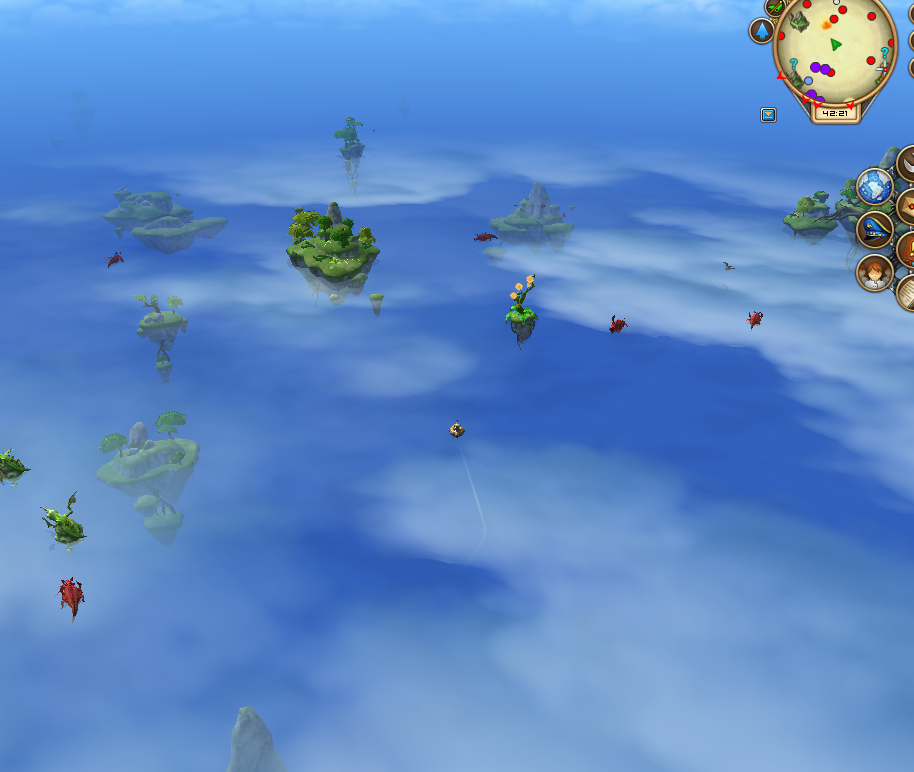dandelion-full: (501, 272, 542, 336)
